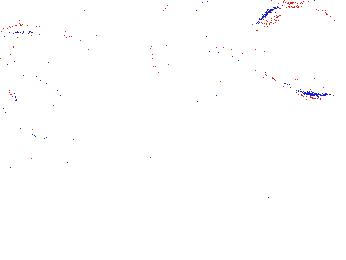moon jellyfish: (1, 32, 109, 139), (251, 4, 346, 98), (150, 1, 204, 92), (176, 46, 263, 90)
